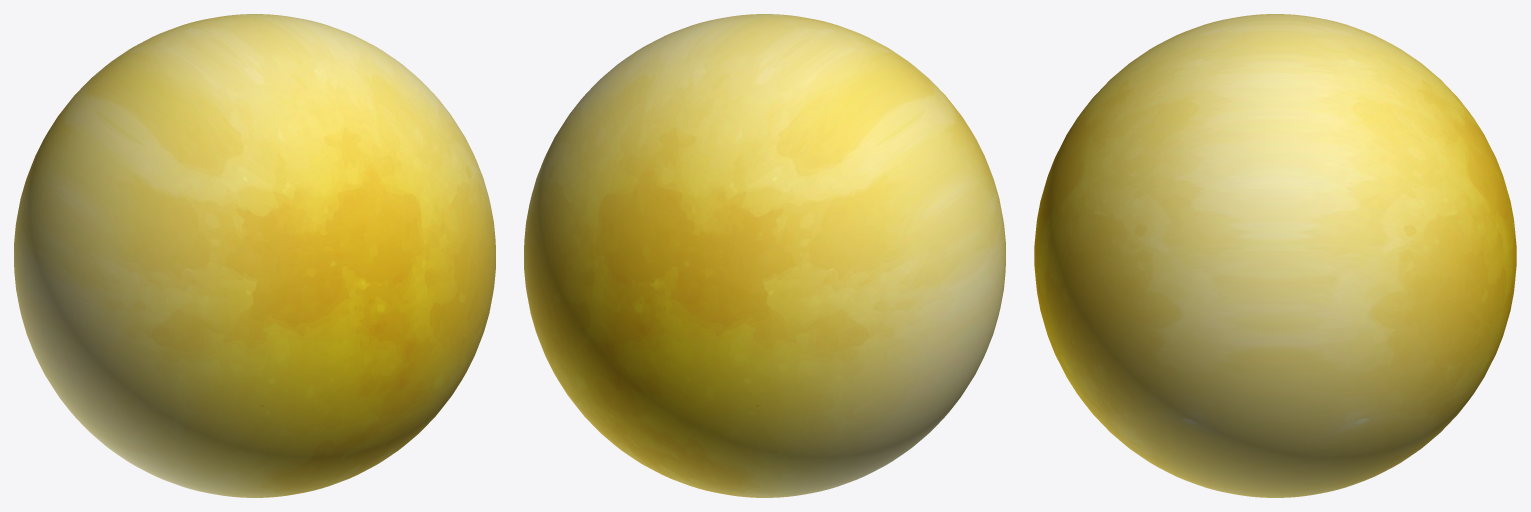
Rendered from moonDrop.glb.
The picture shows the model from 3 angles, left to right: view 1: azimuth 30°, elevation 25°; view 2: azimuth 150°, elevation 25°; view 3: azimuth 270°, elevation 25°; orthographic projection.
Visible parts, largest first — view 1: home_moon003; view 2: home_moon003; view 3: home_moon003.
Boxes of the visible parts, bbox=[...] form: home_moon003: bbox=[14, 14, 495, 497]; home_moon003: bbox=[524, 14, 1005, 497]; home_moon003: bbox=[1034, 14, 1516, 497].
Bounding box in the file's own units: 2.55 × 2.58 × 2.56.
Materials: 1 (1 with a texture image).
